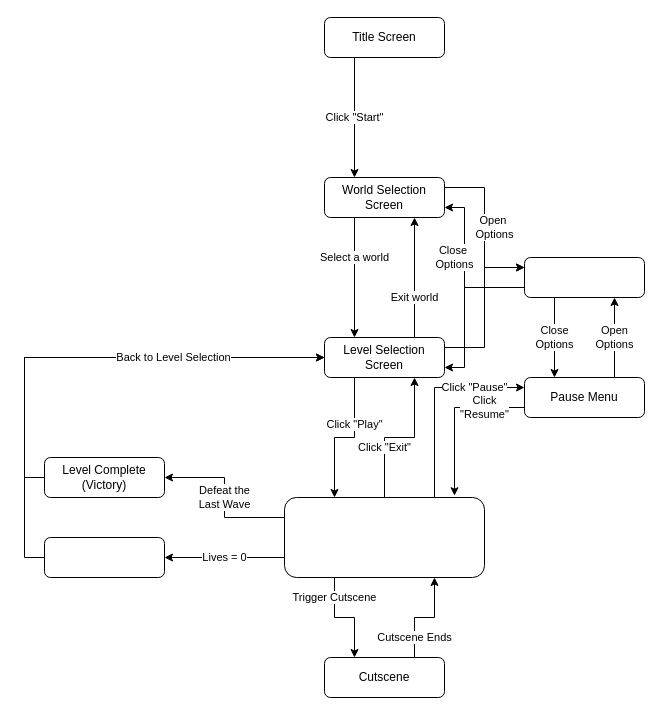
The diagram is 662 pixels wide and 715 high, and some of its shapes have lost their labels. The box of each missing label's shape, as (x1, y1, x2, y2) in pixels:
Gameplay Loop: (284, 496, 484, 578)
Level Complete (Game Over): (44, 536, 164, 578)
Options Menu: (524, 256, 644, 298)
